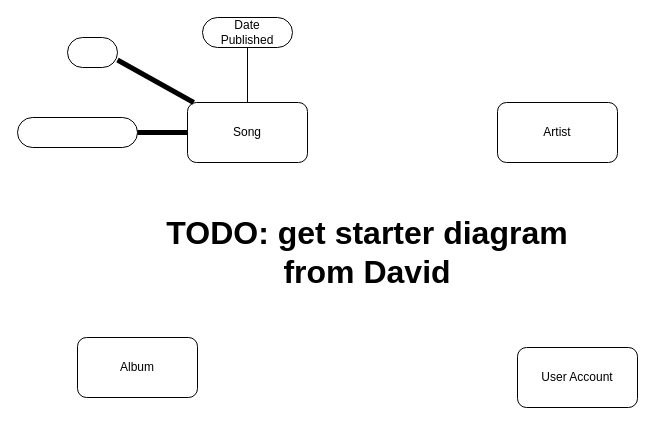
The diagram is 655 pixels wide and 425 high, and some of its shapes have lost their labels. The shapes that lost their labels are listed below. From the top down, each one's centre as x and y in pixels, then its label:
At [92,52]: "ID".
At [77,132]: "Title".
